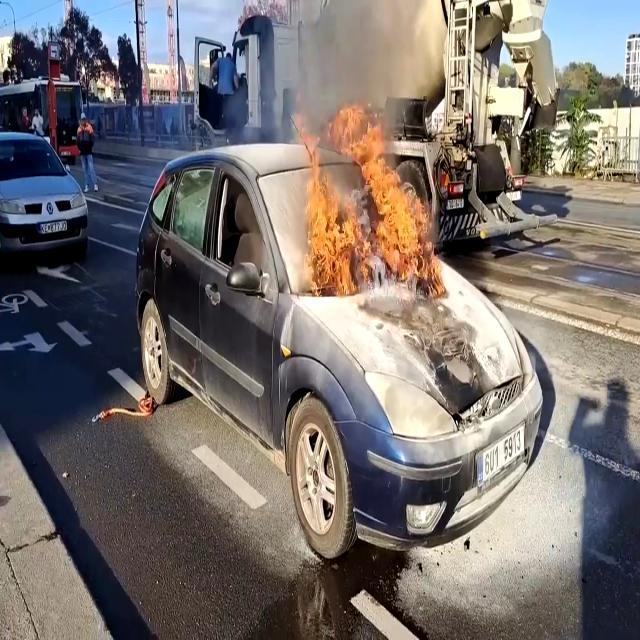Fire: (303, 109, 437, 298)
Smoke: (268, 0, 444, 143)
